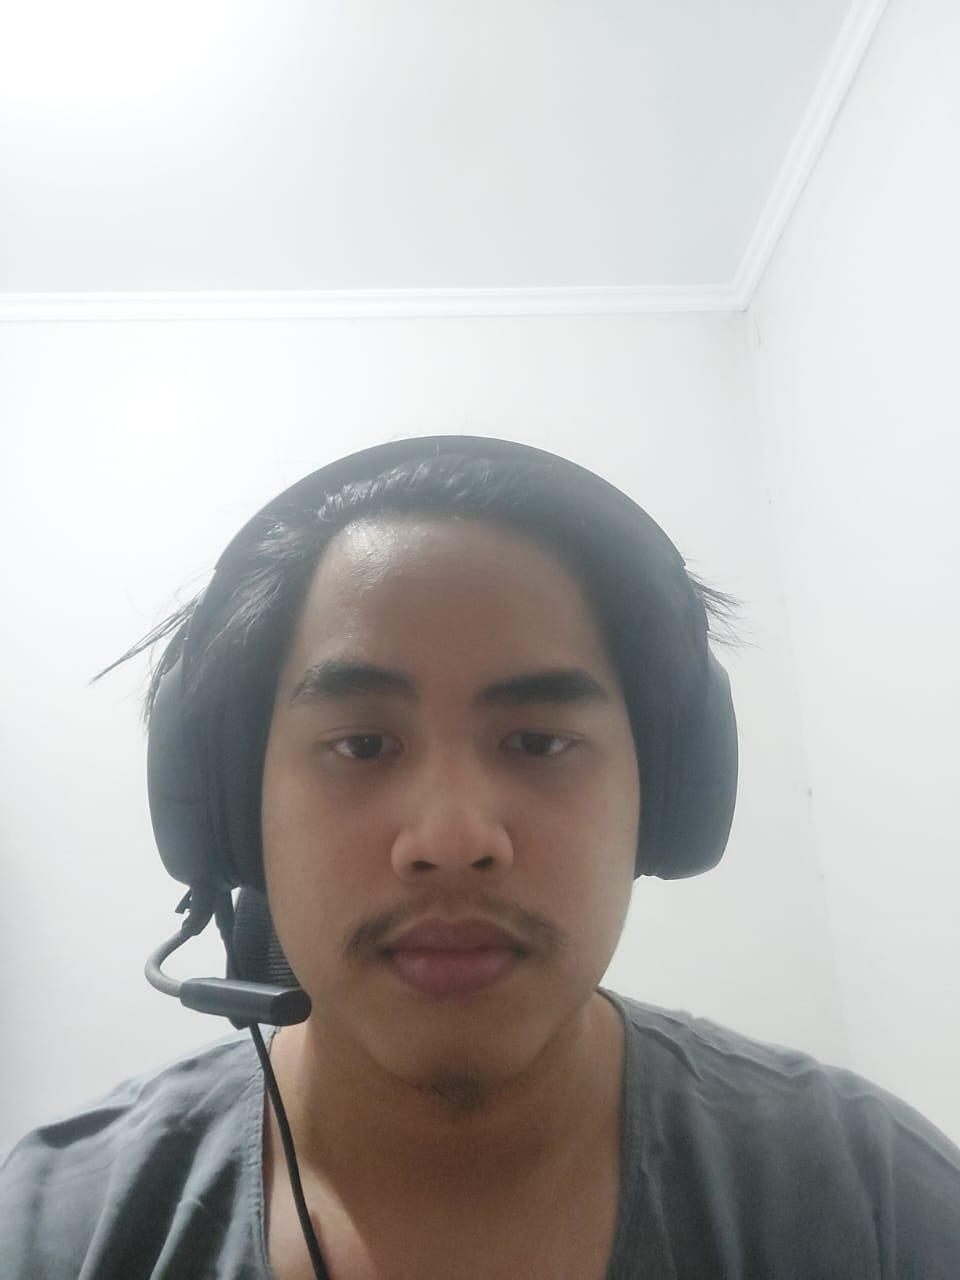Headset: (141, 441, 314, 1044), (620, 450, 774, 988)
